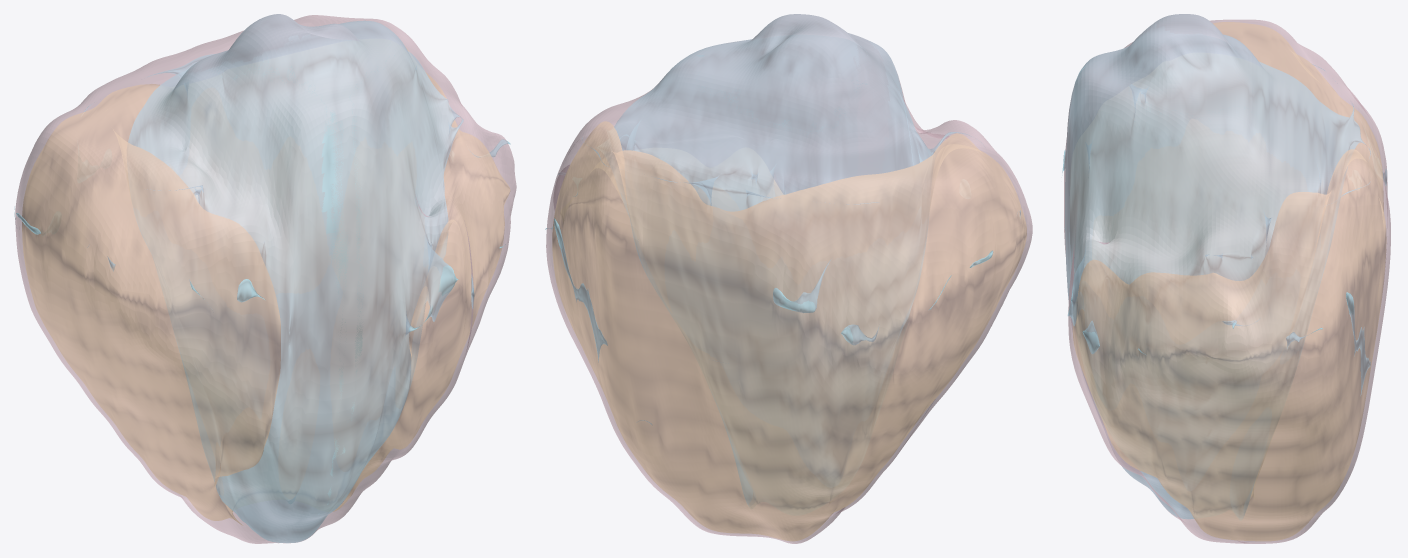
3 views of the same model, side by side, from view 1: azimuth 30°, elevation 25°; view 2: azimuth 150°, elevation 25°; view 3: azimuth 270°, elevation 25° (orthographic). The views are drawn at different scales.
Parts seen in each view (by area): view 1: prostate_gland, transition_zone, peripheral_zone; view 2: prostate_gland, peripheral_zone, transition_zone; view 3: prostate_gland, peripheral_zone, transition_zone.
Boxes of the visible parts, box(x1,y1,x2,y2) form: prostate_gland: box(15, 14, 516, 543); transition_zone: box(14, 14, 510, 542); peripheral_zone: box(22, 48, 510, 525); prostate_gland: box(546, 14, 1032, 543); peripheral_zone: box(552, 121, 1026, 540); transition_zone: box(545, 14, 1020, 504); prostate_gland: box(1064, 14, 1390, 543); peripheral_zone: box(1073, 22, 1386, 540); transition_zone: box(1062, 14, 1386, 518).
Size of the model in its own units: 0.0342 by 0.0367 by 0.0221.
